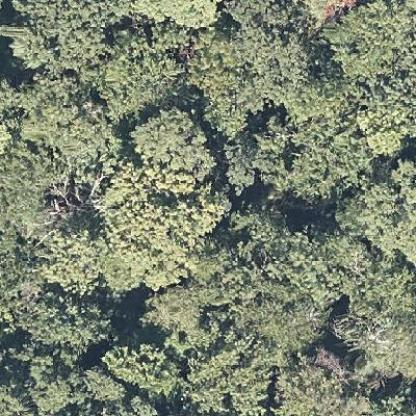tree-top: (94, 159, 228, 243), (335, 259, 415, 381), (188, 29, 308, 108), (256, 118, 370, 194), (270, 353, 404, 415), (331, 161, 415, 255), (322, 2, 415, 81), (98, 30, 184, 112), (125, 106, 220, 177), (182, 345, 275, 415), (21, 296, 115, 352), (100, 340, 184, 394), (43, 226, 104, 293), (24, 353, 76, 415)
